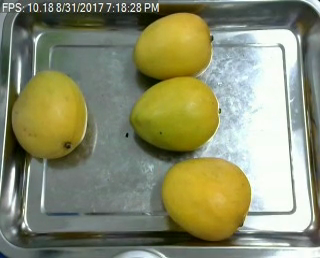Mango: (161, 158, 251, 240), (10, 69, 87, 156), (129, 75, 219, 148), (134, 12, 210, 79)
